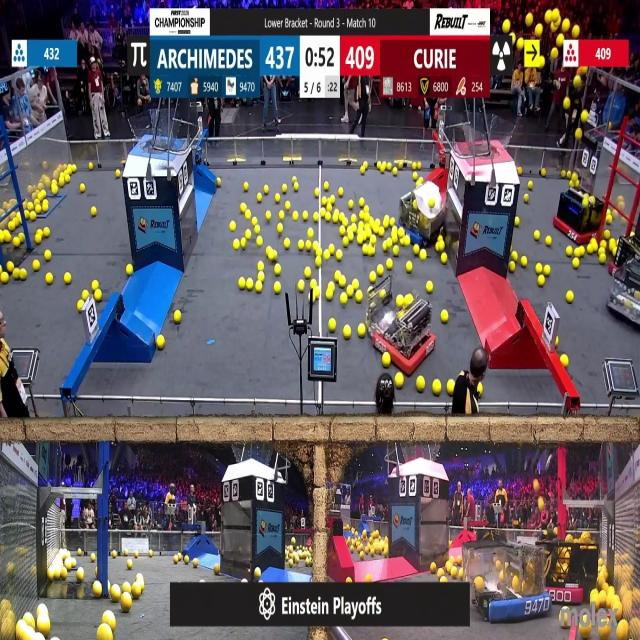ball_airborne: (562, 21, 570, 34), (571, 27, 579, 39), (502, 21, 509, 34), (544, 10, 551, 23), (557, 35, 564, 48), (573, 75, 580, 87), (535, 25, 542, 37), (526, 13, 533, 25), (582, 110, 589, 122), (538, 497, 544, 510), (517, 38, 524, 49), (574, 129, 580, 141), (564, 98, 570, 110), (536, 480, 542, 492), (554, 8, 560, 20), (538, 57, 544, 68), (552, 47, 558, 58), (578, 67, 584, 75)
ball_ground: (37, 616, 50, 636), (120, 594, 131, 612), (103, 614, 115, 630), (97, 627, 110, 640), (111, 588, 121, 602), (133, 585, 143, 599), (417, 377, 426, 392), (448, 380, 456, 396), (432, 381, 441, 395), (94, 584, 103, 598), (473, 576, 482, 590), (395, 374, 403, 389), (344, 325, 352, 339), (26, 616, 35, 628), (357, 324, 365, 337), (391, 230, 399, 243), (64, 273, 72, 285), (382, 354, 390, 366), (274, 282, 282, 294), (442, 311, 450, 323), (1, 273, 9, 285), (158, 338, 166, 350), (561, 355, 569, 367), (76, 568, 84, 580), (360, 232, 368, 244), (174, 311, 181, 324), (399, 237, 408, 247), (451, 567, 459, 578), (426, 281, 433, 293), (566, 290, 573, 302), (328, 319, 335, 331), (297, 280, 304, 292), (239, 278, 246, 290), (378, 266, 385, 278), (246, 279, 253, 291), (271, 249, 278, 261), (573, 247, 581, 257), (385, 240, 393, 250), (438, 567, 446, 577), (275, 265, 282, 276), (127, 266, 134, 277), (305, 268, 312, 279), (45, 274, 52, 285), (355, 290, 362, 301), (599, 253, 606, 264), (255, 282, 262, 293), (306, 241, 313, 252), (340, 225, 347, 236), (95, 290, 102, 301), (330, 212, 337, 223), (572, 257, 579, 268), (50, 183, 57, 194), (543, 266, 549, 278), (122, 584, 130, 593), (42, 201, 48, 213), (359, 212, 367, 221), (340, 278, 347, 288), (297, 241, 304, 251), (368, 273, 375, 283), (392, 246, 399, 256), (352, 280, 359, 290), (6, 264, 13, 274), (93, 281, 100, 291), (588, 244, 595, 254), (362, 245, 369, 255), (364, 572, 371, 582), (510, 264, 517, 274), (341, 293, 348, 303), (413, 246, 420, 256), (12, 238, 19, 248), (435, 243, 442, 253), (347, 232, 354, 242), (284, 239, 290, 250), (522, 256, 528, 267), (536, 265, 542, 276), (316, 256, 322, 267), (337, 250, 343, 261), (44, 250, 50, 261), (420, 249, 426, 260), (384, 216, 390, 227), (0, 232, 5, 245), (240, 204, 247, 213), (379, 229, 386, 238), (369, 236, 376, 245), (92, 207, 98, 217), (387, 261, 393, 271), (34, 262, 40, 272), (19, 270, 25, 280), (256, 237, 262, 247), (442, 253, 448, 263), (308, 230, 314, 240), (566, 247, 572, 257), (538, 276, 544, 286), (82, 290, 88, 300), (544, 236, 550, 246), (257, 272, 263, 282), (254, 568, 260, 578), (534, 232, 540, 242), (343, 238, 349, 248), (314, 212, 320, 222), (128, 560, 134, 570), (234, 240, 240, 250), (277, 223, 283, 233), (36, 235, 42, 245), (326, 290, 332, 300), (368, 246, 374, 256), (43, 228, 49, 238), (314, 288, 320, 298), (348, 286, 354, 296), (323, 250, 329, 260), (214, 564, 220, 574), (76, 302, 82, 312), (340, 214, 346, 224), (30, 211, 36, 221), (430, 563, 436, 573), (456, 556, 462, 566), (62, 569, 68, 579), (475, 384, 481, 394), (608, 240, 614, 250), (245, 232, 252, 240), (458, 567, 463, 578), (257, 263, 263, 272), (524, 193, 530, 202), (231, 221, 237, 230), (310, 280, 316, 289), (254, 224, 260, 233), (339, 187, 345, 196), (92, 554, 98, 563), (320, 208, 326, 217), (390, 217, 396, 226), (347, 224, 353, 233), (17, 234, 23, 243), (606, 214, 612, 223), (358, 220, 364, 229), (397, 229, 403, 238), (71, 560, 77, 569), (36, 205, 42, 214), (516, 216, 521, 226), (408, 264, 413, 274), (276, 192, 281, 202), (292, 212, 297, 222), (336, 272, 341, 282), (376, 217, 381, 227), (244, 182, 250, 190), (604, 232, 610, 240), (282, 184, 288, 192), (352, 215, 358, 223), (512, 252, 518, 260), (284, 202, 290, 210), (313, 242, 319, 250), (243, 211, 249, 219), (358, 199, 364, 207), (316, 248, 322, 256), (292, 186, 298, 194), (540, 169, 546, 177), (600, 240, 606, 248), (267, 247, 273, 255), (442, 574, 448, 582), (328, 246, 334, 254), (413, 173, 419, 181), (328, 195, 334, 203), (177, 554, 183, 562), (439, 236, 445, 244), (241, 240, 246, 249), (25, 211, 30, 220), (418, 178, 424, 185), (115, 170, 120, 178), (349, 201, 354, 209), (252, 217, 257, 225), (256, 192, 261, 200), (265, 185, 270, 193), (528, 181, 533, 189), (192, 559, 197, 567), (90, 164, 95, 172), (216, 178, 221, 186), (392, 168, 397, 176), (304, 212, 309, 220), (315, 188, 320, 196), (360, 167, 365, 175), (516, 166, 521, 174), (381, 290, 386, 298), (321, 199, 326, 207), (413, 164, 418, 172), (359, 553, 364, 561), (387, 164, 392, 172), (428, 200, 433, 208), (347, 576, 353, 582), (80, 183, 84, 192), (268, 211, 272, 220), (328, 282, 333, 289), (381, 168, 386, 175), (326, 205, 331, 212), (324, 182, 328, 190), (280, 212, 284, 220), (184, 556, 188, 564), (66, 175, 70, 183), (562, 170, 566, 178), (292, 176, 296, 184), (112, 552, 116, 559), (72, 166, 76, 173), (556, 339, 560, 346), (149, 553, 153, 559), (136, 553, 140, 559)
goal: (461, 118, 518, 158), (128, 115, 186, 152)
robot_blue: (471, 543, 552, 622), (399, 195, 447, 247), (608, 258, 640, 329)
robot_red: (368, 295, 432, 357), (546, 532, 600, 604), (557, 187, 605, 244)
